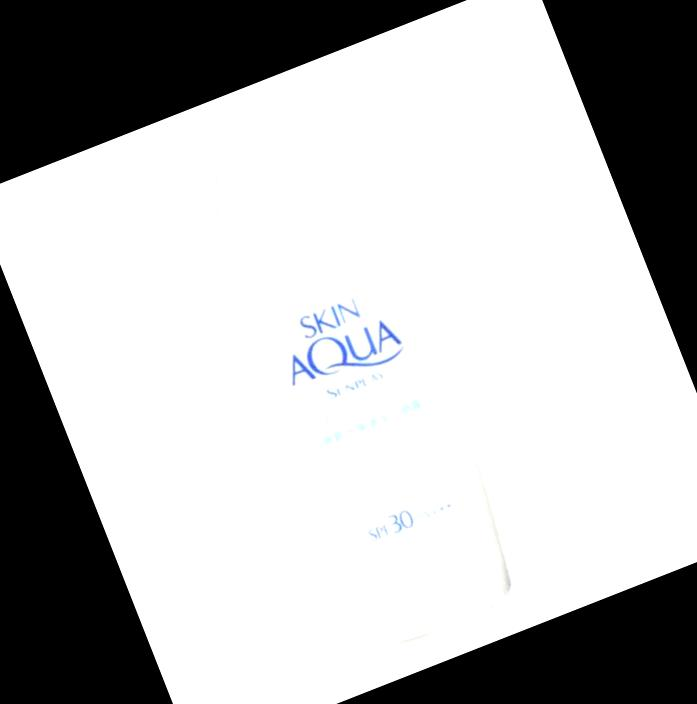cosmetic: (176, 100, 525, 644)
